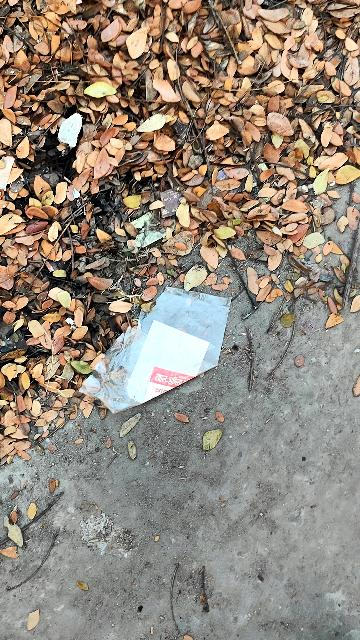polythene: (76, 291, 238, 412)
